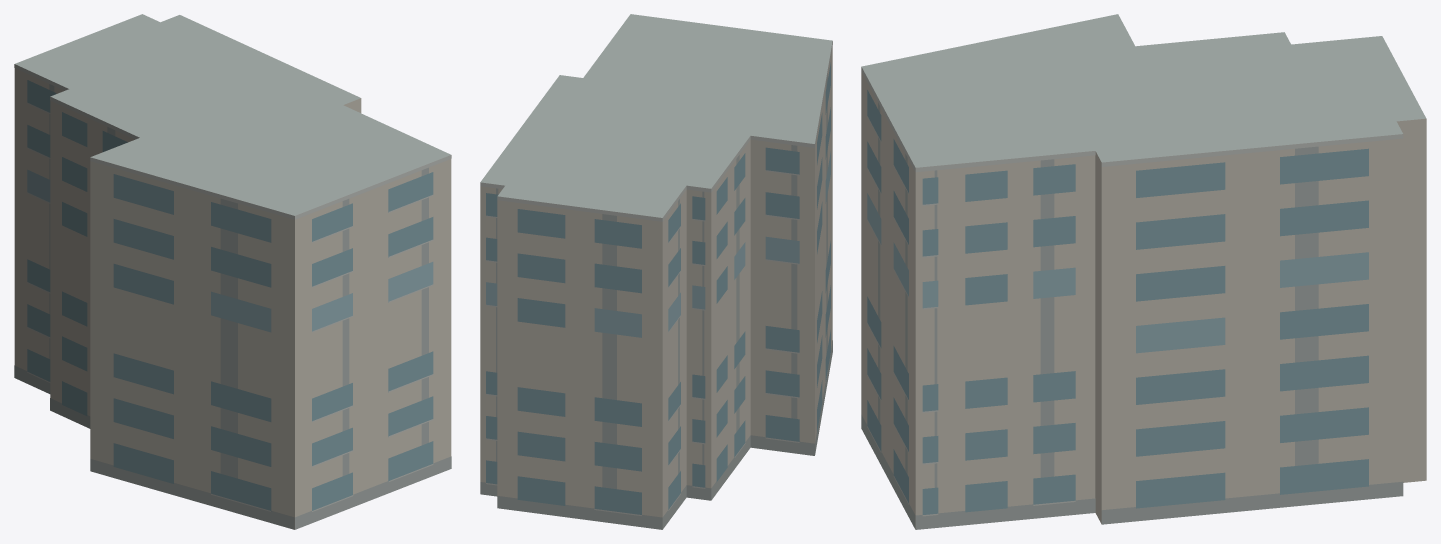
The model's file is survey-upis-32741083.glb.
3 views of the same model, side by side, from view 1: azimuth 30°, elevation 25°; view 2: azimuth 150°, elevation 25°; view 3: azimuth 270°, elevation 25° (orthographic). The views are drawn at different scales.
Visible parts, largest first — view 1: survey-upis-32741083.tmp; view 2: survey-upis-32741083.tmp; view 3: survey-upis-32741083.tmp.
Part boxes in pixels (x1,y1,x2,y2): survey-upis-32741083.tmp: (14,14,451,529); survey-upis-32741083.tmp: (480,14,832,529); survey-upis-32741083.tmp: (861,14,1426,529).
Size of the model in its own units: 17.89 by 19.62 by 27.76.
